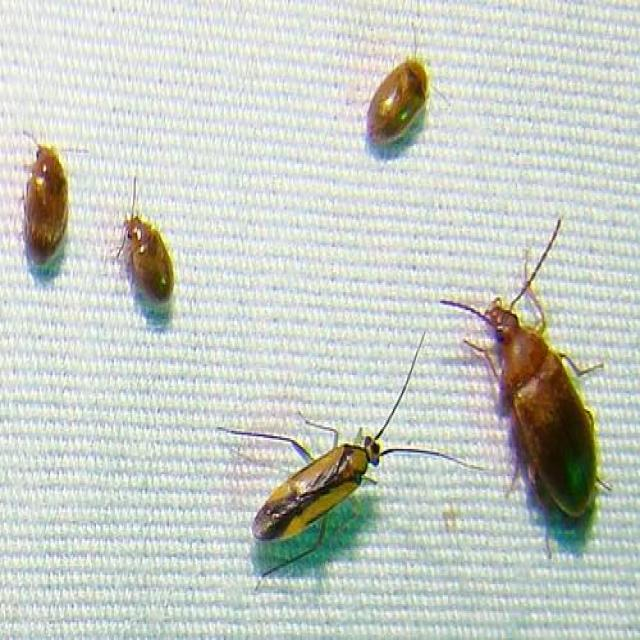Miridae-Adult-: (220, 324, 487, 585), (432, 211, 618, 521)
